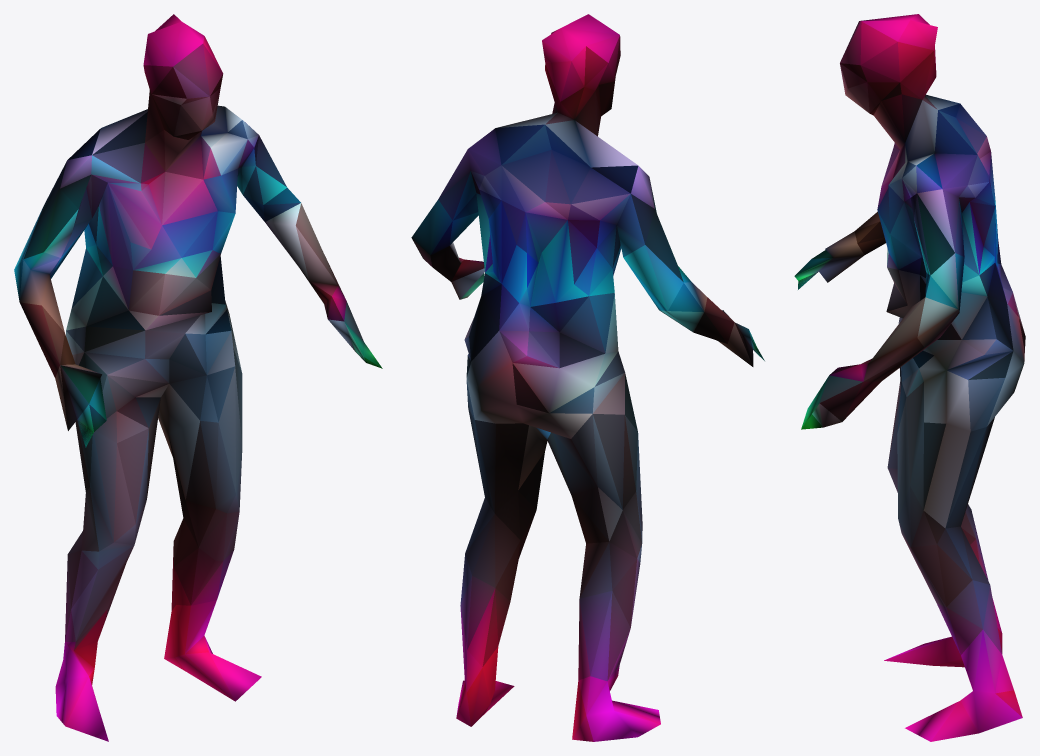
The model's file is avatar_simple.obj.
3 renders of one model, left to right at view 1: azimuth 30°, elevation 25°; view 2: azimuth 150°, elevation 25°; view 3: azimuth 270°, elevation 25°, orthographic. The views are drawn at different scales.
Bounding box in the file's own units: 0.7603 × 1.66 × 0.5105.
